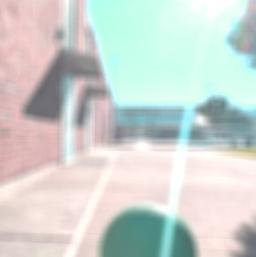algae: (98, 204, 198, 257)
